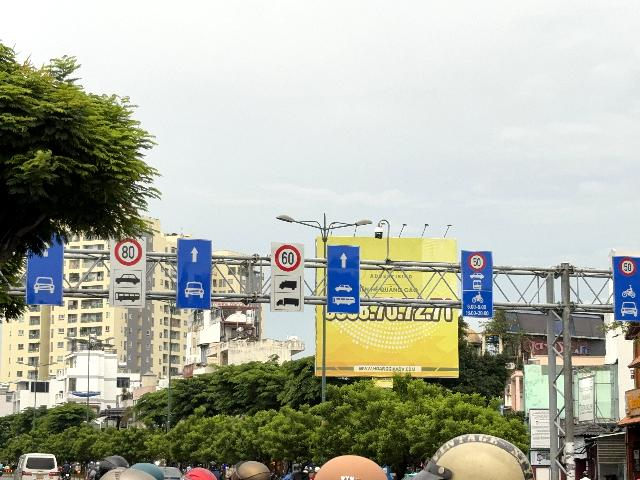toc-do-toi-da-cho-phep: (114, 238, 142, 266), (274, 244, 301, 271), (468, 252, 486, 271), (619, 257, 636, 277)
